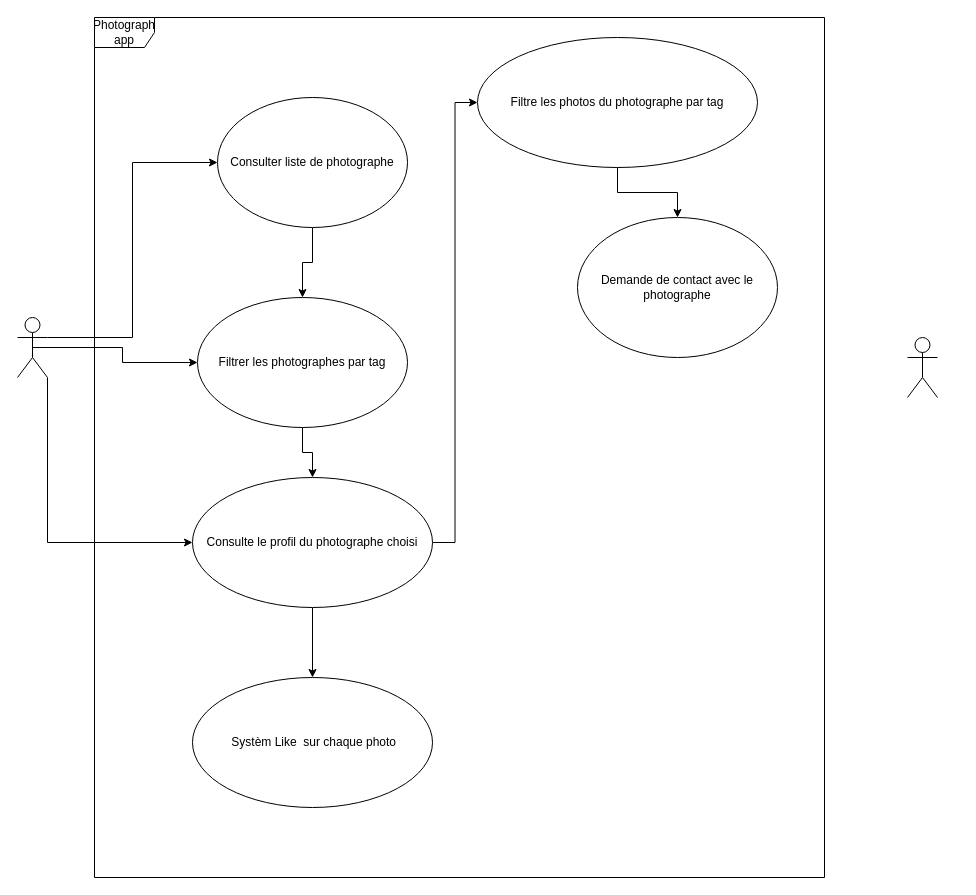
Image size: 976x895. Some labels were removed from this diagram. The box of each missing label's shape, as (x1, y1, x2, y2) in pixels:
Client: (16, 316, 48, 378)
Photographer: (906, 336, 938, 398)
